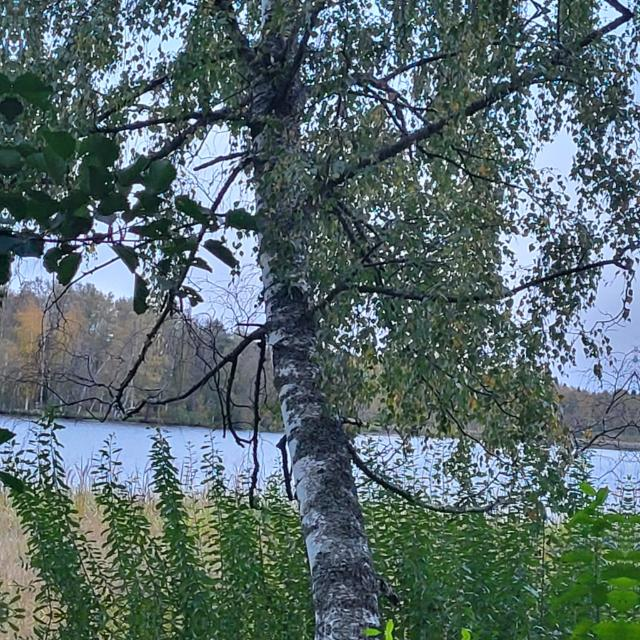birch: (186, 0, 450, 640)
